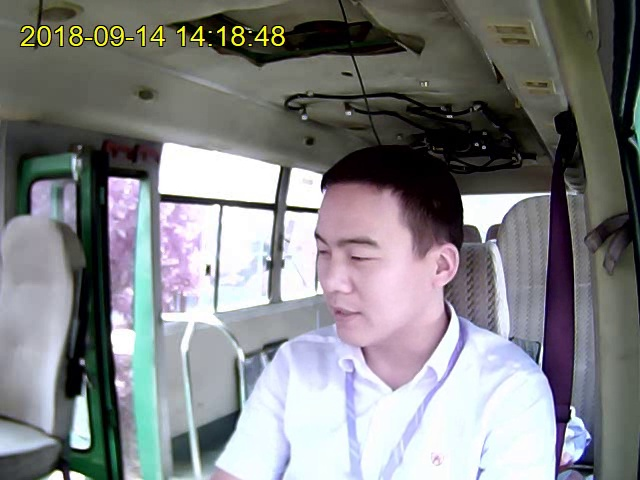closed_mouth: (331, 304, 363, 326)
